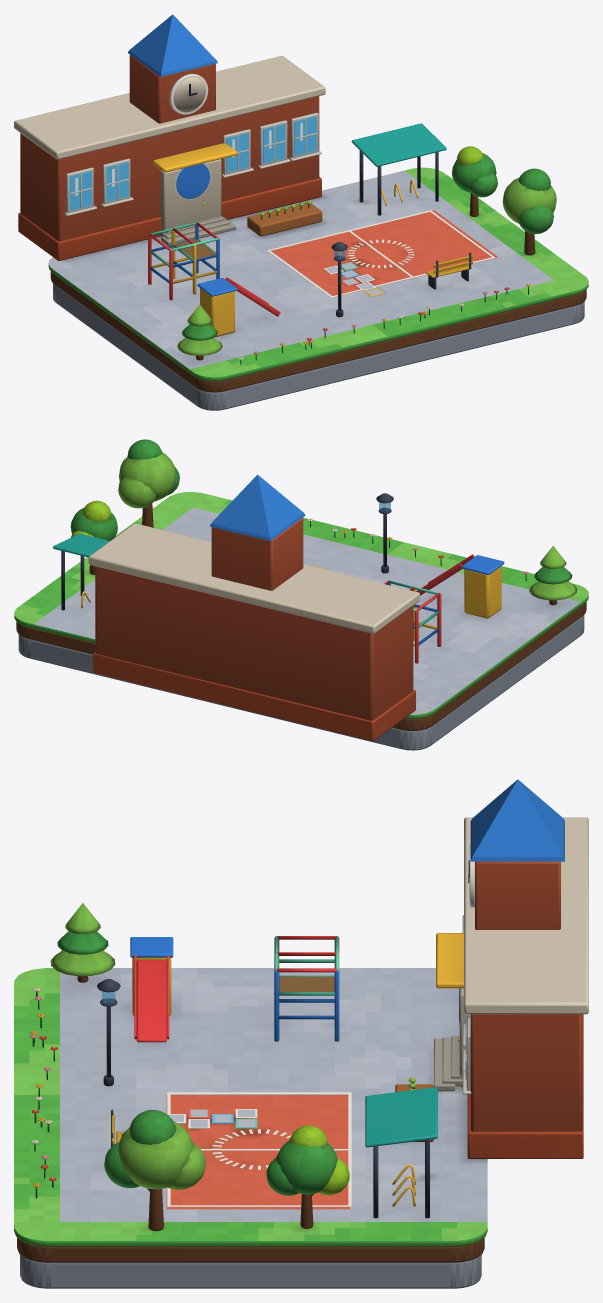
Rendered from schoolyard.glb.
The picture shows the model from 3 angles, top to bottom: view 1: azimuth 30°, elevation 25°; view 2: azimuth 150°, elevation 25°; view 3: azimuth 270°, elevation 25°; orthographic projection. The views are drawn at different scales.
Parts seen in each view (by area): view 1: schoolyard_Satin, schoolyard_Matte, schoolyard_Gloss; view 2: schoolyard_Satin, schoolyard_Matte, schoolyard_Gloss; view 3: schoolyard_Matte, schoolyard_Satin, schoolyard_Gloss.
Boxes of the visible parts, x1,y1,x2,y2 form: schoolyard_Satin: (14,55,586,410); schoolyard_Matte: (48,167,588,381); schoolyard_Gloss: (69,14,528,358); schoolyard_Satin: (16,439,586,750); schoolyard_Matte: (14,492,588,718); schoolyard_Gloss: (53,474,526,663); schoolyard_Matte: (14,968,487,1246); schoolyard_Satin: (17,817,588,1288); schoolyard_Gloss: (32,779,564,1218).
Size of the model in its own units: 15.25 by 8.72 by 13.35.
